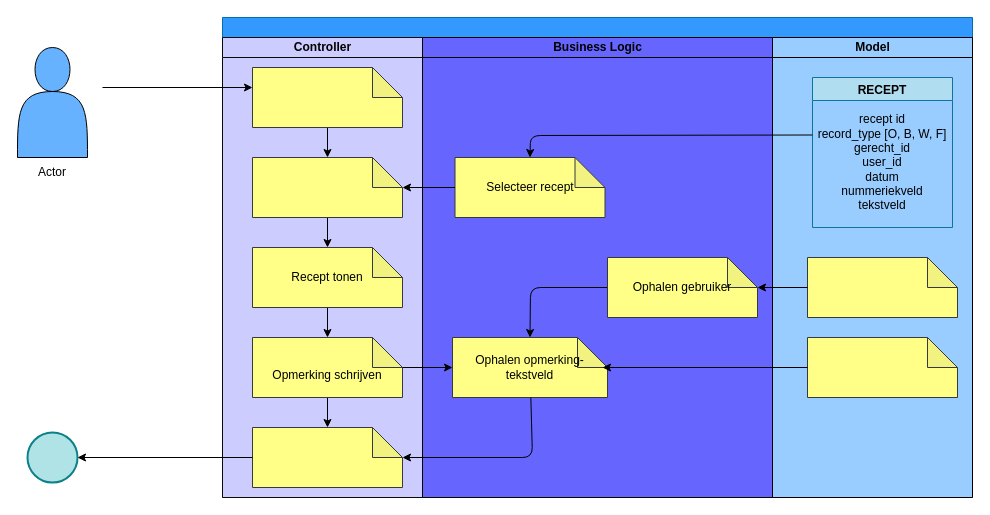
Image size: 990x515. Some labels were removed from this diagram. The shapes that lost their labels are listed below. From the top down, each one's centre as x and y in pixels, then its label:
(327,97): Initialisatie
(327,187): Recept ophalen
(882,287): Selecteer gebruiker
(882,367): Selecteer record_type Opmerking
(327,457): Opmerking plaatsen
